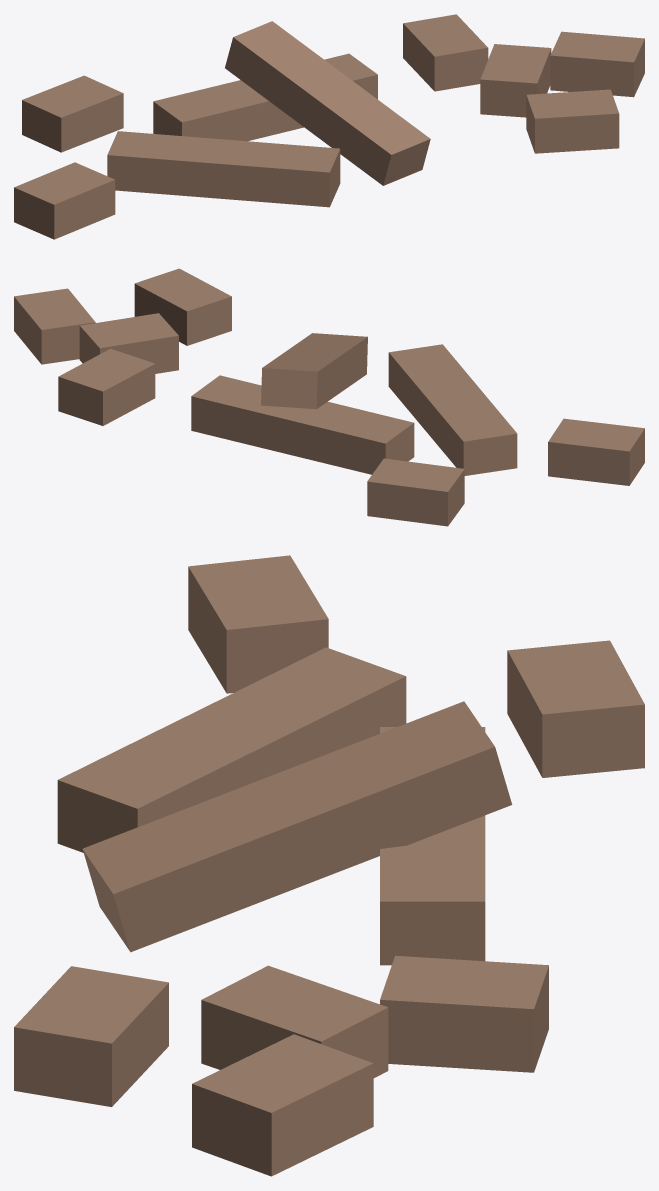
Rendered from 3D_BricksRubbles-A.fbx.
The picture shows the model from 3 angles, top to bottom: view 1: azimuth 30°, elevation 25°; view 2: azimuth 150°, elevation 25°; view 3: azimuth 270°, elevation 25°; orthographic projection. The views are drawn at different scales.
Visible parts, largest first — view 1: Cube; view 2: Cube; view 3: Cube.
Boxes of the visible parts, box(x1,y1,x2,y2) form: Cube: box(14, 14, 644, 239); Cube: box(14, 268, 644, 526); Cube: box(14, 555, 644, 1176).
Size of the model in its own units: 181 by 24.87 by 86.76.
Materials: 1 (1 with a texture image).
